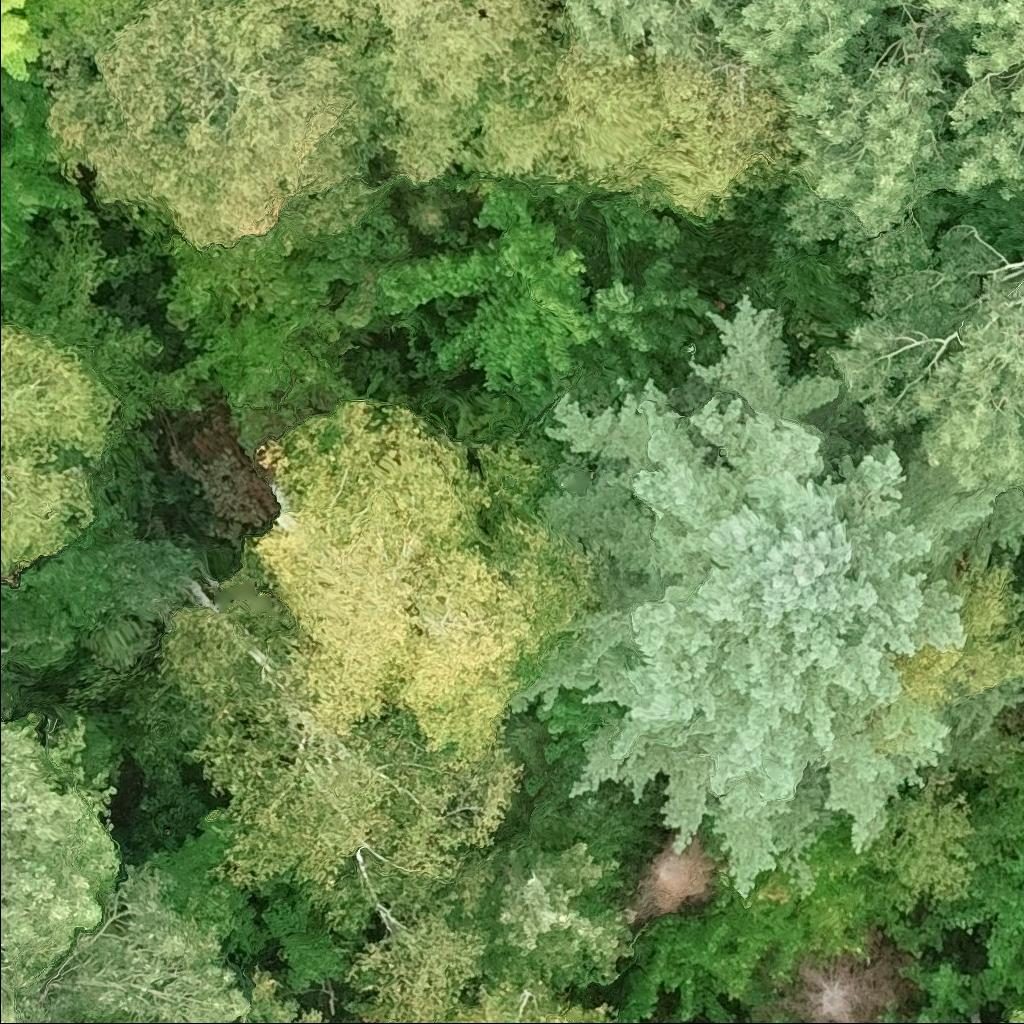crown: (506, 286, 1000, 907), (251, 396, 597, 765), (161, 605, 529, 933), (40, 0, 386, 247), (0, 714, 258, 1023), (461, 25, 794, 224), (810, 225, 1023, 499), (378, 185, 593, 435), (762, 20, 965, 281), (305, 0, 568, 188), (877, 0, 1023, 259), (0, 313, 125, 587), (554, 0, 894, 91), (478, 820, 639, 989), (748, 814, 939, 955), (619, 893, 821, 1023), (578, 256, 720, 403), (897, 556, 1023, 707), (0, 58, 84, 280), (343, 907, 496, 1023), (862, 769, 982, 903), (781, 923, 918, 1023), (0, 0, 141, 91), (436, 963, 624, 1023), (630, 840, 714, 921), (533, 692, 613, 770), (241, 962, 328, 1023), (994, 1007, 1023, 1023)
